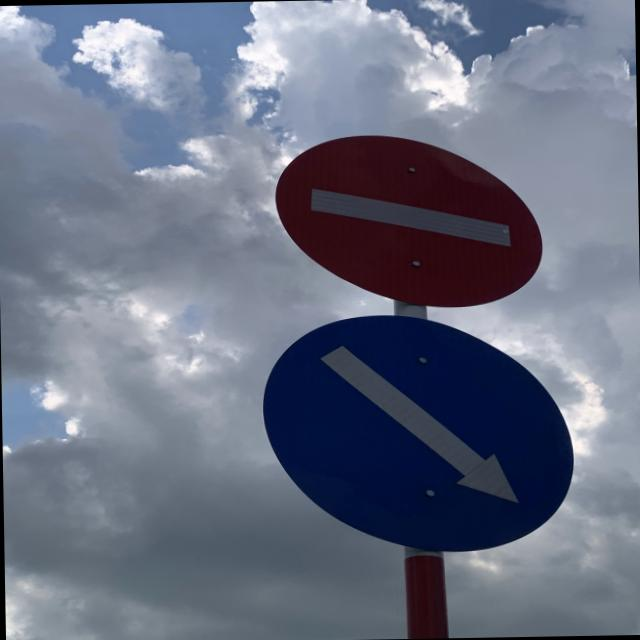Cam_Di_Nguoc_Chieu: (272, 128, 548, 311)
Chi_Huong_Di_Phai: (258, 312, 579, 552)
